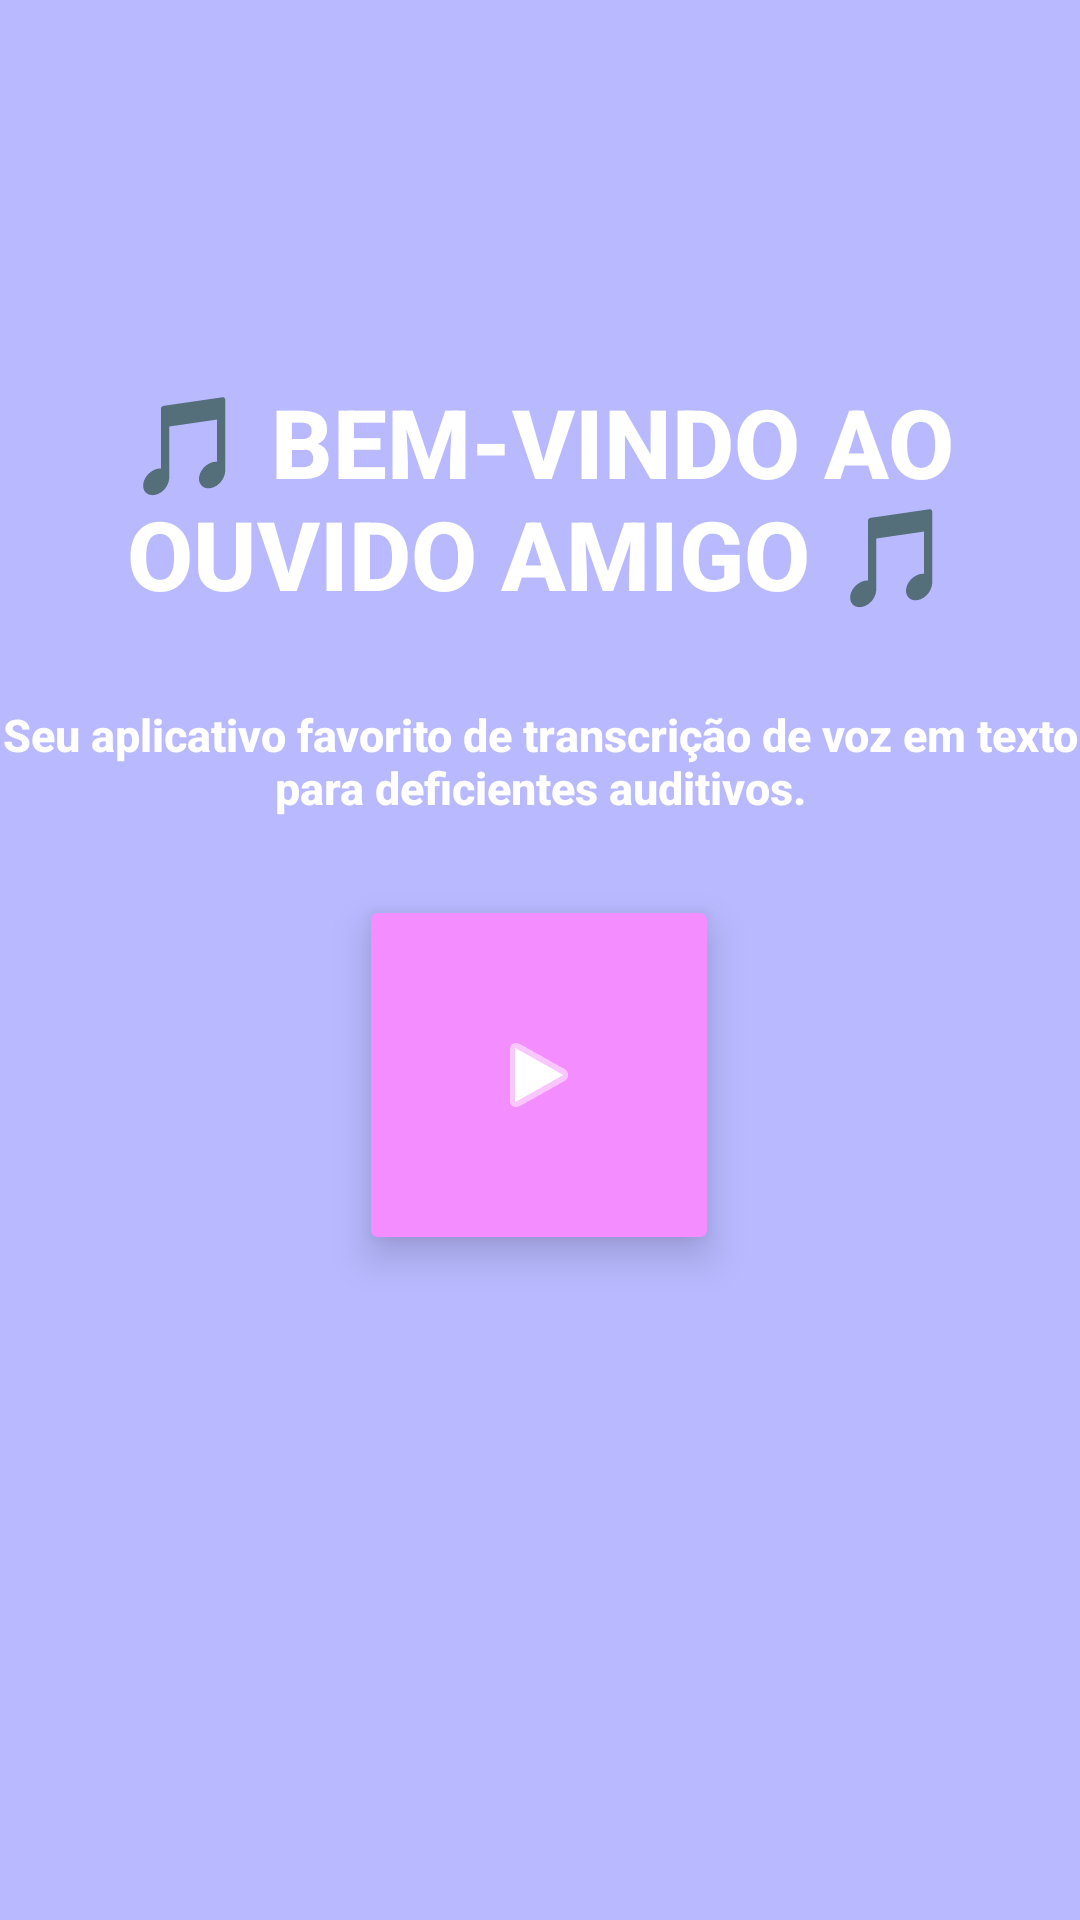

Screen size 1080x1920. Icon name, then its center in pixels as (x=x, y=y):
Play: (x=539, y=1077)
